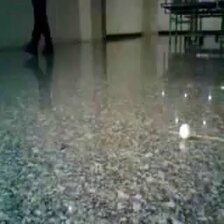w: (178, 121, 193, 139)
